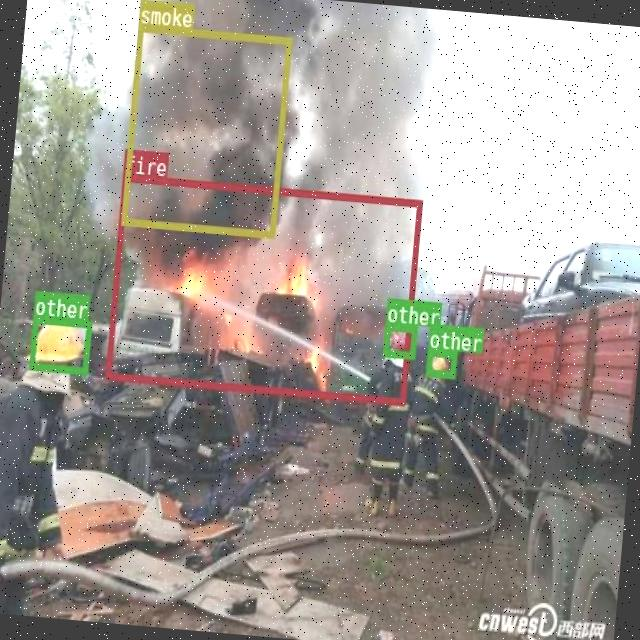fire: (104, 173, 421, 404)
smoke: (120, 22, 291, 238)
